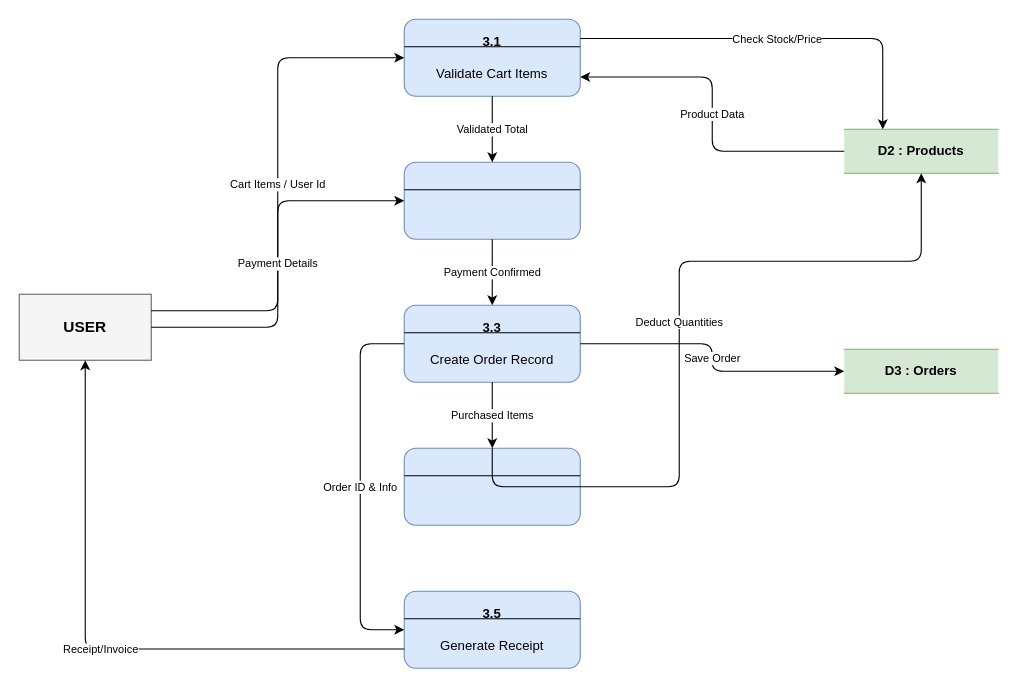
This 1018x688 diagram has some shape labels left out. The shapes that lost their labels are listed below. From the top down, each one's box as (x1, y1, x2, y2) in pixels, then its label:
(403, 161, 580, 239): 3.2 Process Payment
(403, 447, 580, 525): 3.4 Update Inventory
